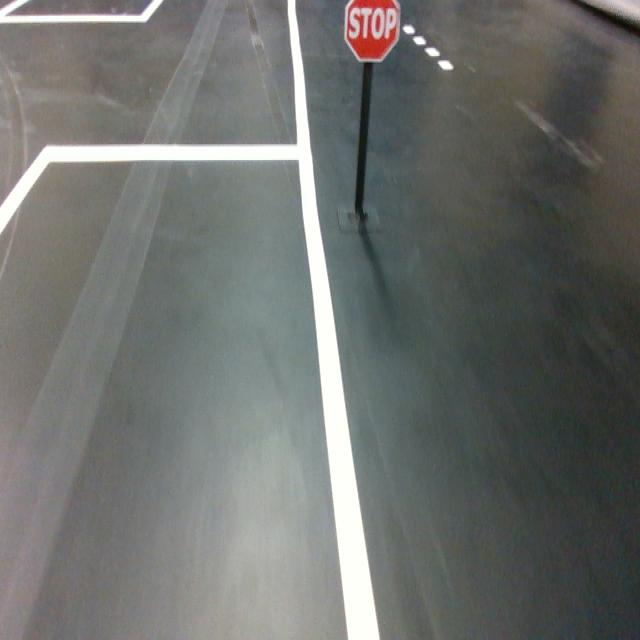stop-sign: (343, 0, 401, 63)
